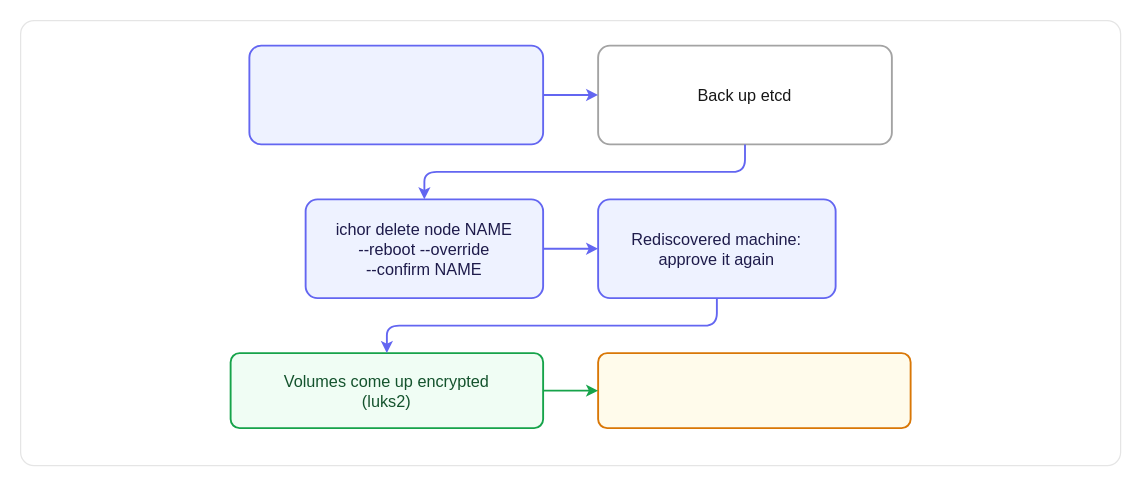
The diagram is 1141 pixels wide and 486 high, and some of its shapes have lost their labels. The centre of each missing label's shape, as x and y in pixels:
"Next node: workers first, then control planes, keeping quorum" belongs at pixel 754 390.
"Set diskEncryption and the confirm-disk-encryption-wipe annotation" belongs at pixel 396 94.
